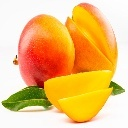mango: (18, 15, 75, 90)
